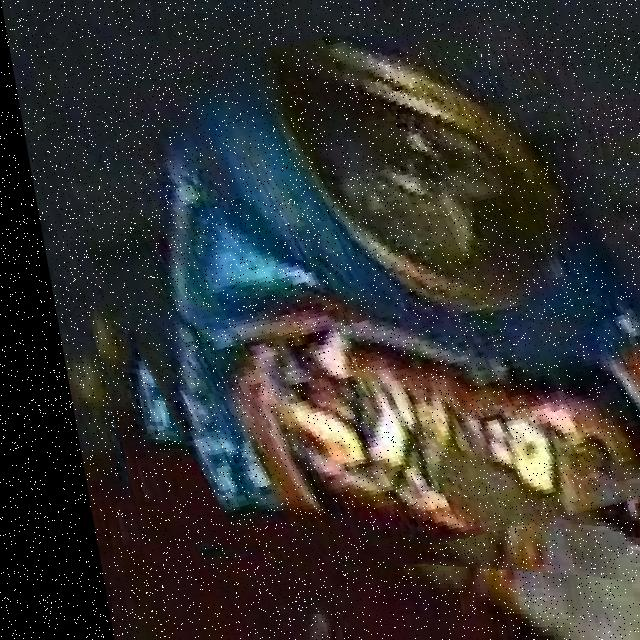litter: (18, 36, 640, 588)
